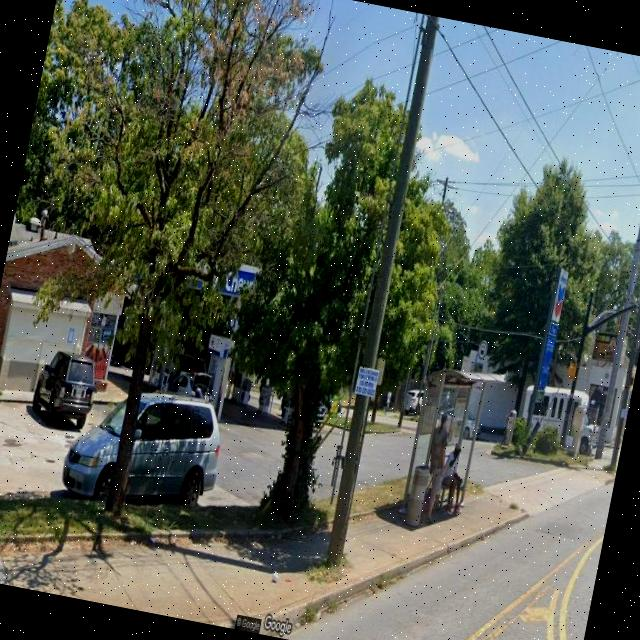seating: (423, 468, 462, 516)
shelter: (397, 362, 504, 532)
trash_can: (404, 462, 432, 532)
